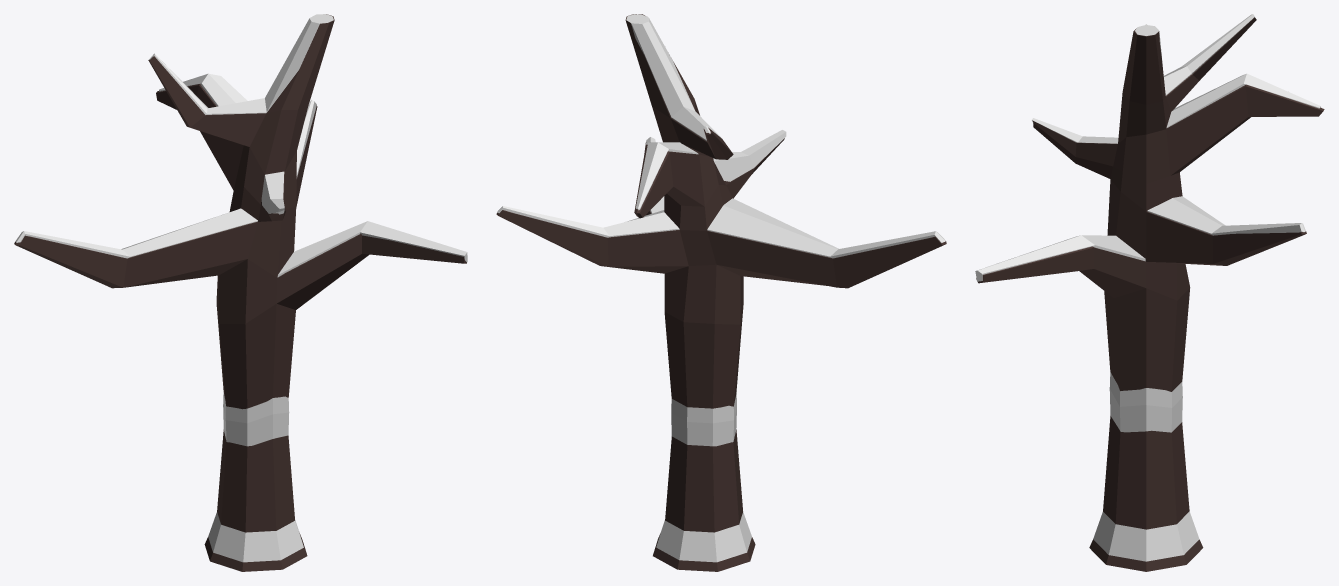
Rendered from leave tree winter.fbx.
3 views of the same model, side by side, from view 1: azimuth 30°, elevation 25°; view 2: azimuth 150°, elevation 25°; view 3: azimuth 270°, elevation 25° (orthographic). The views are drawn at different scales.
Parts seen in each view (by area): view 1: leaves tree winter snow; view 2: leaves tree winter snow; view 3: leaves tree winter snow.
Boxes of the visible parts, x1,y1,x2,y2 form: leaves tree winter snow: (14, 14, 467, 571); leaves tree winter snow: (496, 14, 946, 571); leaves tree winter snow: (975, 14, 1324, 571).
Bounding box in the file's own units: 450 × 588 × 338.
